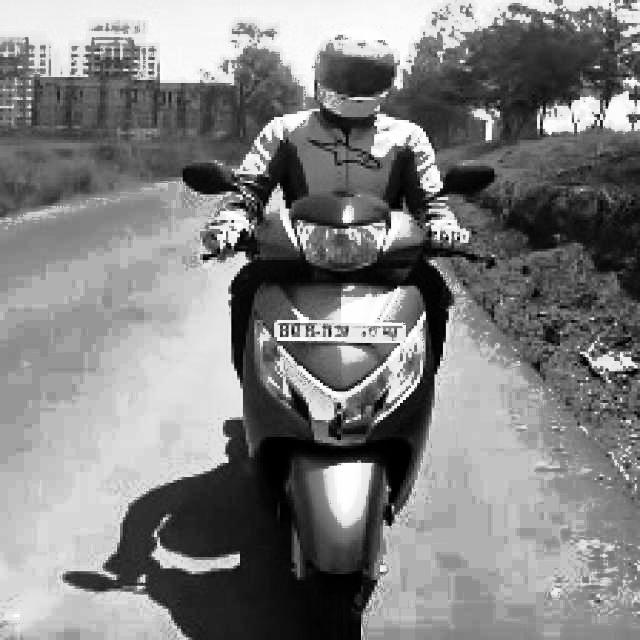Bike: (209, 213, 461, 629)
